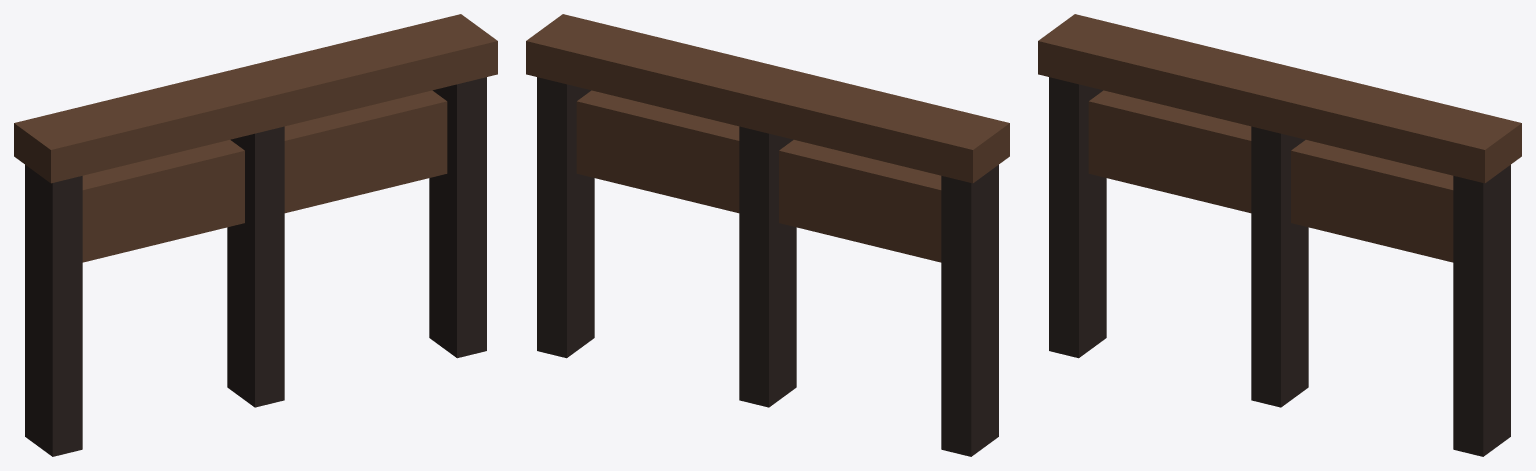
File: PirateCove_SluiceGate_Simple.glb
The picture shows the model from 3 angles, left to right: view 1: azimuth 30°, elevation 25°; view 2: azimuth 150°, elevation 25°; view 3: azimuth 330°, elevation 25°; orthographic projection.
Parts seen in each view (by area): view 1: PirateCove_SluiceGate_Simple; view 2: PirateCove_SluiceGate_Simple; view 3: PirateCove_SluiceGate_Simple.
Boxes of the visible parts, left/top/right/bottom form: PirateCove_SluiceGate_Simple: left=14, top=14, right=497, bottom=456; PirateCove_SluiceGate_Simple: left=526, top=14, right=1009, bottom=456; PirateCove_SluiceGate_Simple: left=1038, top=14, right=1521, bottom=456.
Size of the model in its own units: 4.2 by 2.8 by 0.6.
